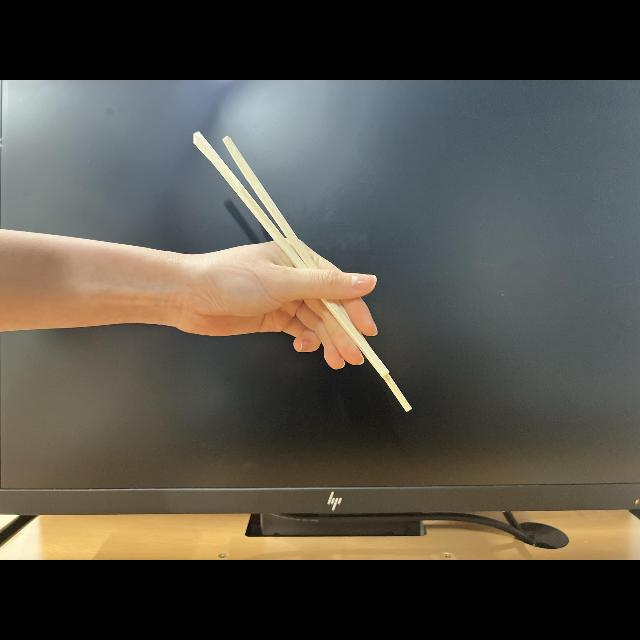stick: (192, 130, 414, 414)
